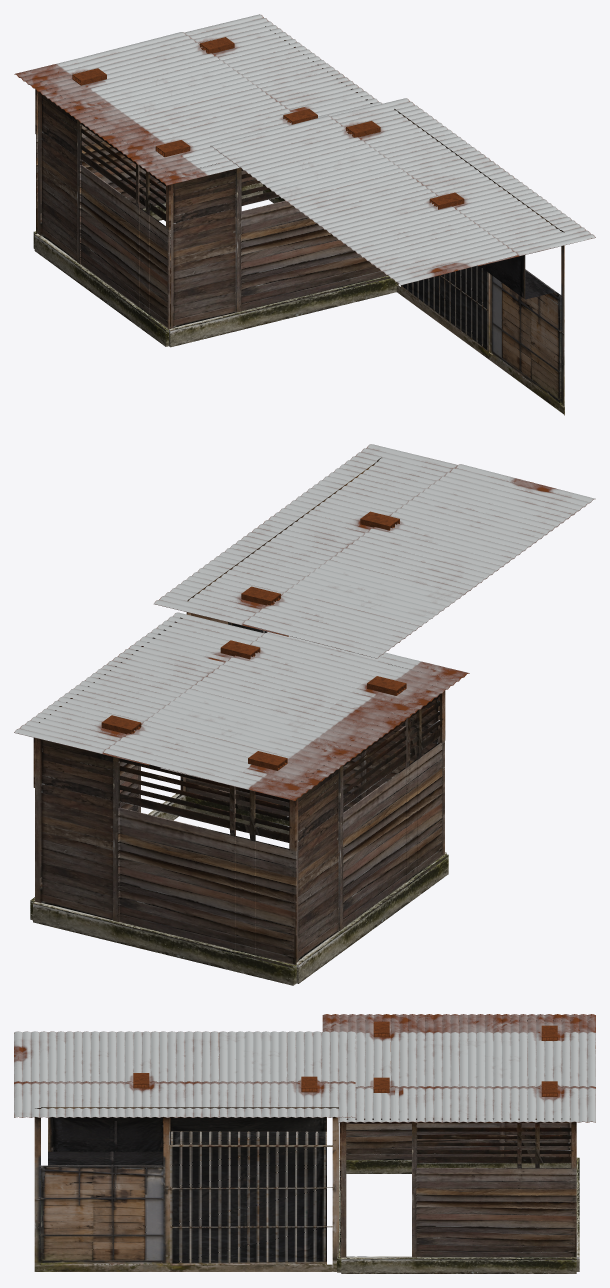
Rendered from casa_derecha_18.fbx.
The picture shows the model from 3 angles, top to bottom: view 1: azimuth 30°, elevation 25°; view 2: azimuth 150°, elevation 25°; view 3: azimuth 270°, elevation 25°; orthographic projection. The views are drawn at different scales.
Parts seen in each view (by area): view 1: Techo 18B, Techo 18A, casa_derecho_18A.003, casa_derecho_18A.004, casa_derecho_18B.001, casa_derecho_18A.002; view 2: Techo 18B, Techo 18A, casa_derecho_18A.002, casa_derecho_18A.004, casa_derecho_18A.003, casa_derecho_18A.001; view 3: casa_derecho_18B.001, Techo 18B, Techo 18A, casa_derecho_18A.001, casa_derecho_18A.004, casa_derecho_18A.002, casa_derecho_18A.003.
Boxes of the visible parts, x1,y1,x2,y2 form: Techo 18B: [210, 98, 595, 285]; Techo 18A: [14, 14, 382, 185]; casa_derecho_18A.003: [167, 163, 396, 347]; casa_derecho_18A.004: [34, 81, 170, 346]; casa_derecho_18B.001: [394, 109, 564, 415]; casa_derecho_18A.002: [33, 89, 262, 248]; Techo 18B: [154, 444, 595, 658]; Techo 18A: [14, 612, 469, 800]; casa_derecho_18A.002: [33, 738, 296, 985]; casa_derecho_18A.004: [296, 685, 448, 983]; casa_derecho_18A.003: [185, 664, 446, 854]; casa_derecho_18A.001: [30, 617, 185, 920]; casa_derecho_18B.001: [34, 1107, 338, 1271]; Techo 18B: [14, 1031, 355, 1117]; Techo 18A: [322, 1014, 595, 1122]; casa_derecho_18A.001: [341, 1118, 576, 1273]; casa_derecho_18A.004: [339, 1020, 571, 1173]; casa_derecho_18A.002: [576, 1157, 579, 1271]; casa_derecho_18A.003: [337, 1122, 341, 1272].
Bounding box in the file's own units: 506 × 353 × 1105.
